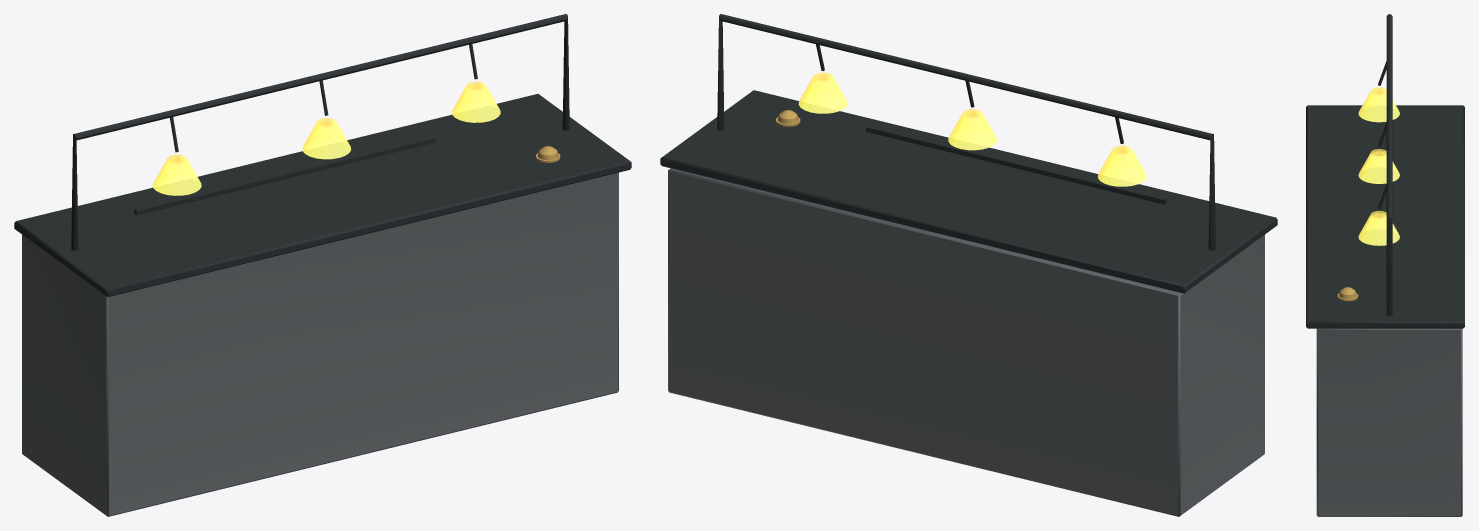
Rendered from rest-kitchen-pass.glb.
The picture shows the model from 3 angles, left to right: view 1: azimuth 30°, elevation 25°; view 2: azimuth 150°, elevation 25°; view 3: azimuth 270°, elevation 25°; orthographic projection. The views are drawn at different scales.
Parts seen in each view (by area): view 1: counter__steel, lamps__amber, rail__steel; view 2: counter__steel, lamps__amber, rail__steel; view 3: counter__steel, lamps__amber, rail__steel, bell__brass.
Boxes of the visible parts, x1,y1,x2,y2 form: counter__steel: (14,14,631,516); lamps__amber: (152,81,500,195); rail__steel: (134,136,435,215); counter__steel: (660,14,1277,516); lamps__amber: (798,72,1146,186); rail__steel: (866,125,1167,204); counter__steel: (1306,14,1464,516); lamps__amber: (1358,87,1399,245); rail__steel: (1375,122,1379,213); bell__brass: (1337,287,1358,301).
Size of the model in its own units: 2.46 by 1.56 by 0.76.
